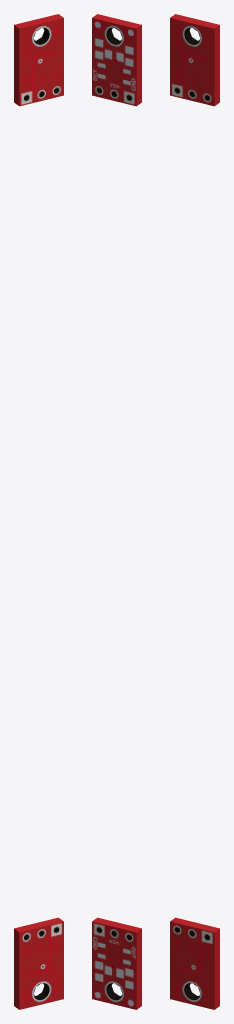
Rendered from HLR_PCB_V2.obj.
The picture shows the model from 3 angles, left to right: view 1: azimuth 30°, elevation 25°; view 2: azimuth 150°, elevation 25°; view 3: azimuth 330°, elevation 25°; orthographic projection.
Visible parts, largest first — view 1: HL_V2, HR_V2; view 2: HR_V2, HL_V2; view 3: HL_V2, HR_V2.
Boxes of the visible parts, x1,y1,x2,y2 form: HL_V2: [14, 917, 63, 1009]; HR_V2: [14, 14, 63, 106]; HR_V2: [92, 14, 141, 106]; HL_V2: [92, 917, 141, 1009]; HL_V2: [170, 917, 219, 1009]; HR_V2: [170, 14, 219, 106].
Bounding box in the file's own units: 0.00762 × 0.1606 × 0.0016.
Materials: 2 (2 with a texture image).
